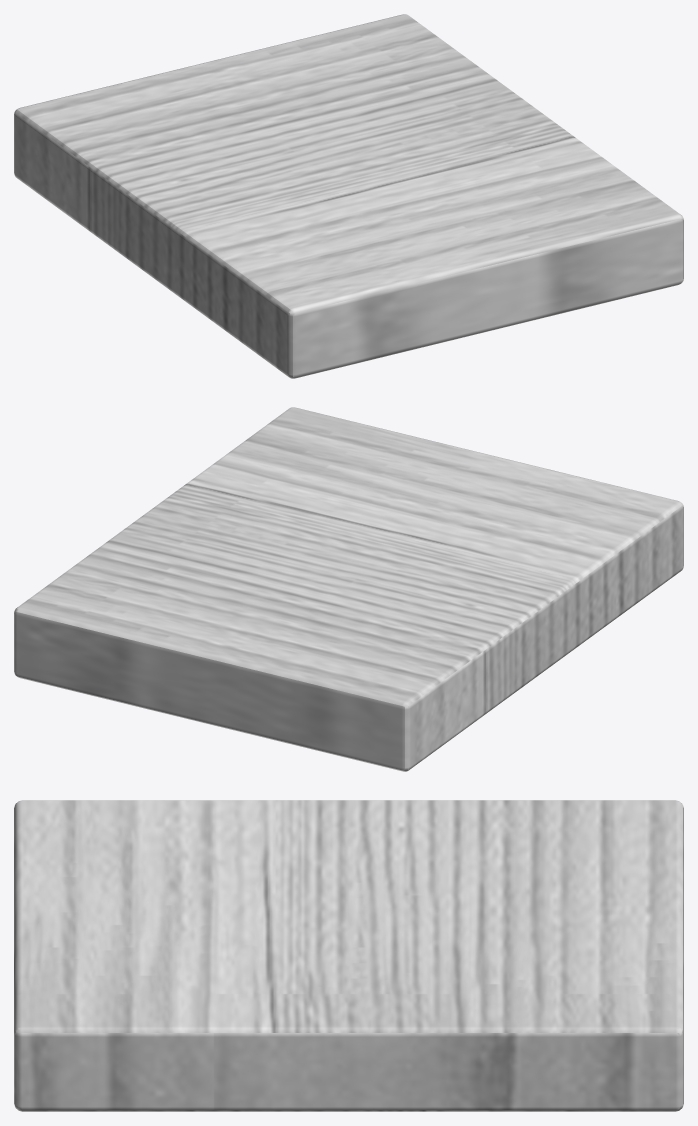
The model's file is Landing_clg.fbx.
The picture shows the model from 3 angles, top to bottom: view 1: azimuth 30°, elevation 25°; view 2: azimuth 150°, elevation 25°; view 3: azimuth 270°, elevation 25°; orthographic projection. The views are drawn at different scales.
Parts seen in each view (by area): view 1: polySurface98; view 2: polySurface98; view 3: polySurface98.
Boxes of the visible parts, x1,y1,x2,y2 form: polySurface98: [14, 14, 683, 378]; polySurface98: [14, 407, 683, 771]; polySurface98: [14, 800, 683, 1111].
Size of the model in its own units: 16.8 by 2.86 by 20.51.
